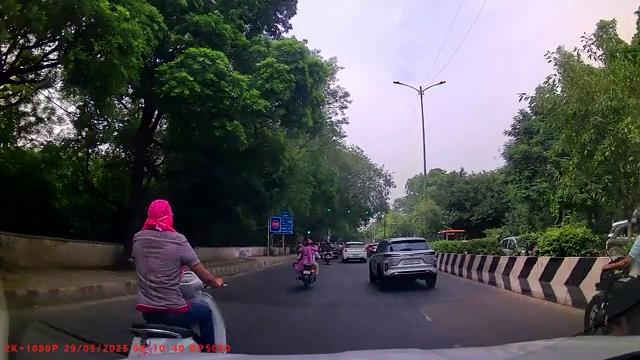motorcycle_without_helmet: (121, 194, 233, 354)
